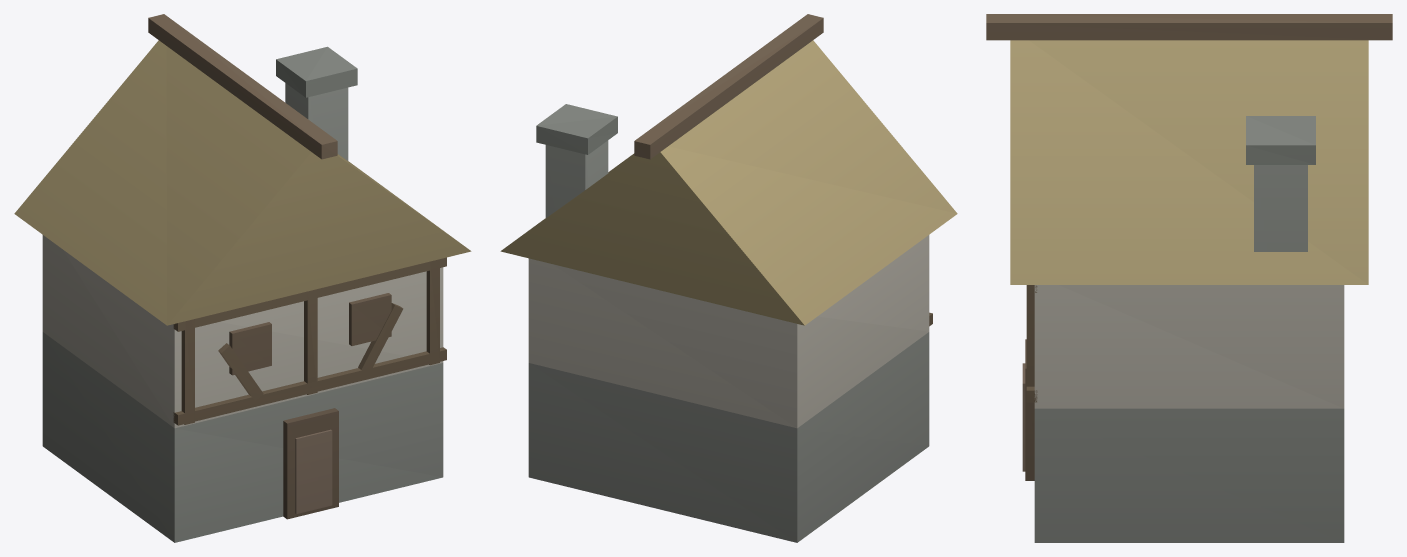
File: house_small.glb
3 views of the same model, side by side, from view 1: azimuth 30°, elevation 25°; view 2: azimuth 150°, elevation 25°; view 3: azimuth 270°, elevation 25° (orthographic). The views are drawn at different scales.
Visible parts, largest first — view 1: house_small; view 2: house_small; view 3: house_small.
Part boxes in pixels (<box>): house_small: <box>14,14,471,542</box>; house_small: <box>500,14,957,542</box>; house_small: <box>986,14,1392,542</box>.
Size of the model in its own units: 1.53 by 1.83 by 1.51.
